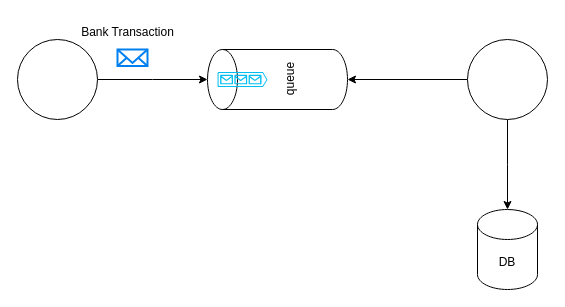
This 565x307 diagram has some shape labels left out. Each missing label, with the centre of its shape:
Client: point (57, 79)
Server: point (507, 79)
